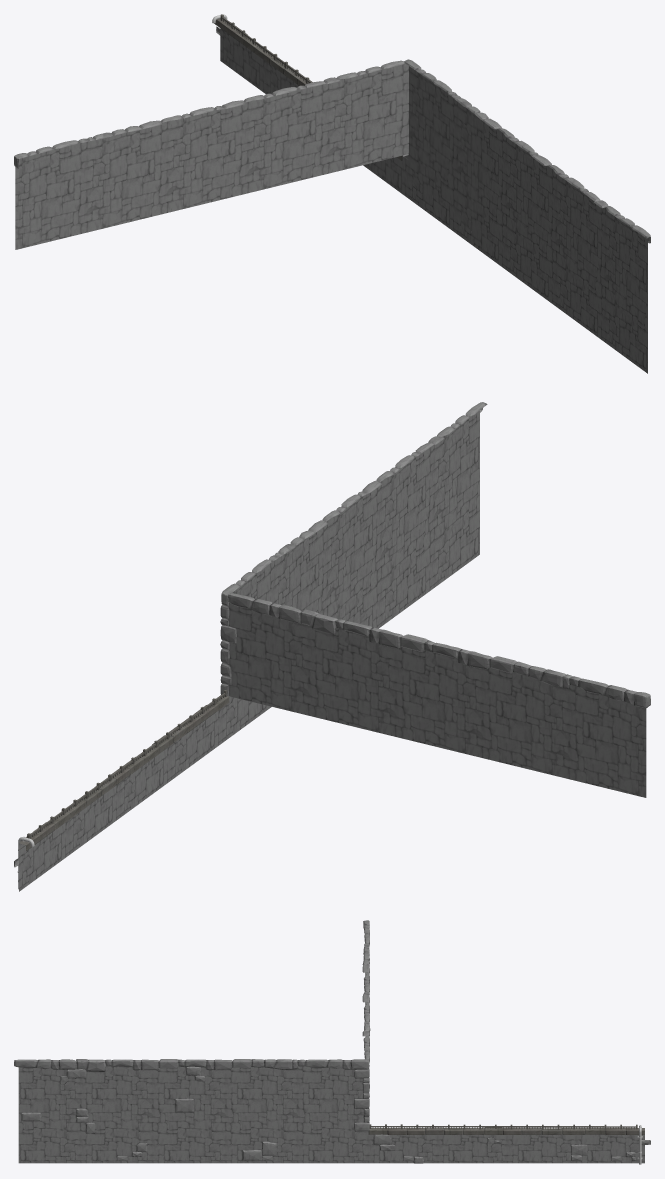
File: SM_ENV_KNVLLG_Wall_06.mo.fbx
The picture shows the model from 3 angles, top to bottom: view 1: azimuth 30°, elevation 25°; view 2: azimuth 150°, elevation 25°; view 3: azimuth 270°, elevation 25°; orthographic projection. The views are drawn at different scales.
Parts seen in each view (by area): view 1: SM_ENV_KNVLLG_Wall_06.mo; view 2: SM_ENV_KNVLLG_Wall_06.mo; view 3: SM_ENV_KNVLLG_Wall_06.mo.
Boxes of the visible parts, box(x1,y1,x2,y2) form: SM_ENV_KNVLLG_Wall_06.mo: box(14, 14, 650, 373); SM_ENV_KNVLLG_Wall_06.mo: box(14, 402, 650, 891); SM_ENV_KNVLLG_Wall_06.mo: box(14, 920, 650, 1164).
Size of the model in its own units: 39.05 by 13.12 by 73.71.
